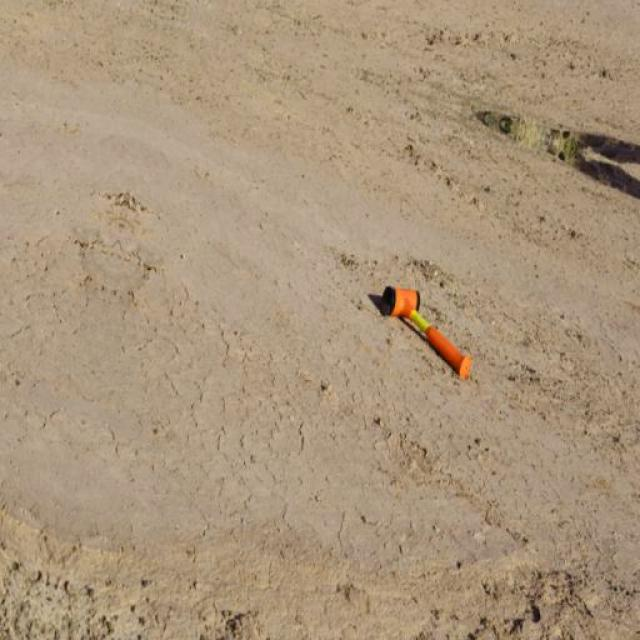mallet: (375, 284, 474, 380)
